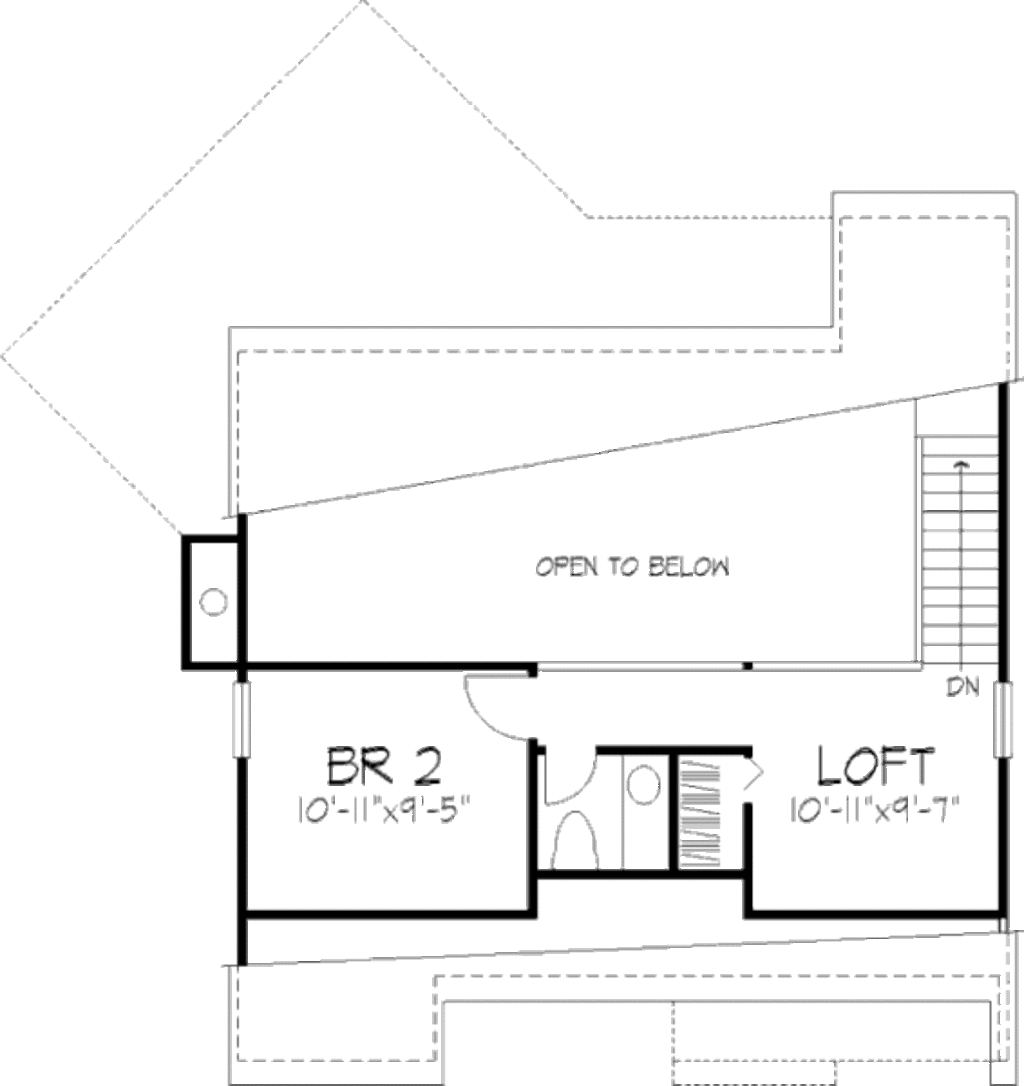door: (454, 661, 540, 746), (537, 746, 609, 805)
large_sink: (526, 786, 606, 874)
small_sink: (623, 747, 669, 844)
stairs: (898, 376, 1018, 659)
window: (981, 662, 1023, 776), (229, 676, 261, 761)
